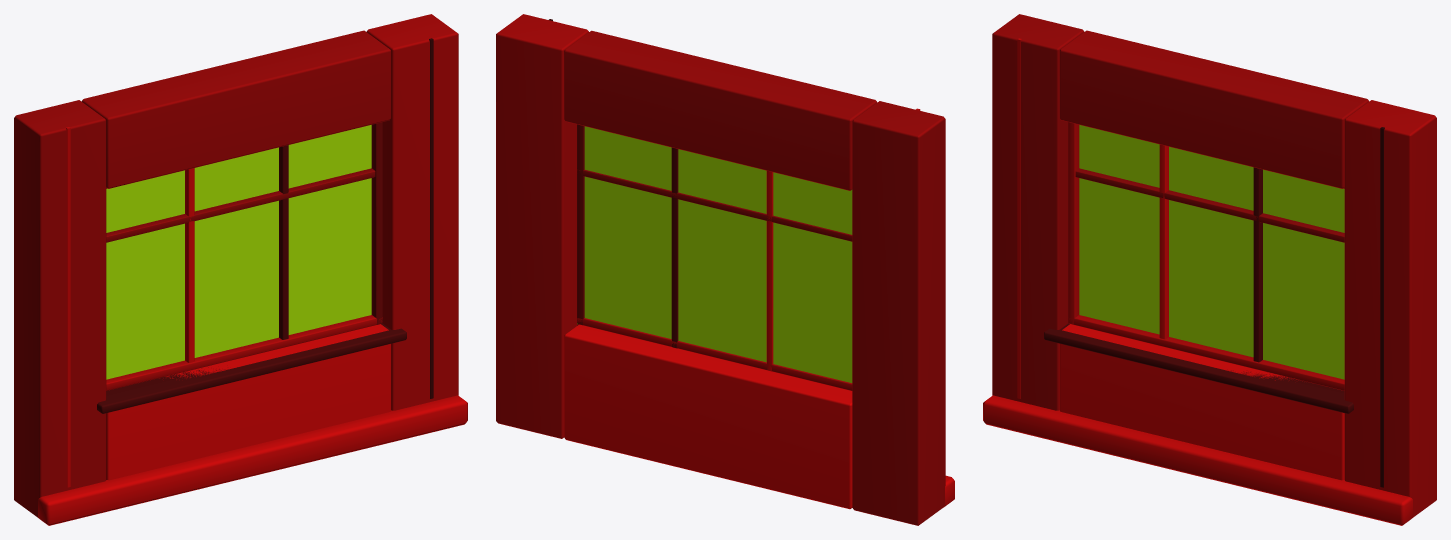
File: fac_concrete_a.glb
3 renders of one model, left to right at view 1: azimuth 30°, elevation 25°; view 2: azimuth 150°, elevation 25°; view 3: azimuth 330°, elevation 25°, orthographic.
Parts seen in each view (by area): view 1: fac_concrete_a; view 2: fac_concrete_a; view 3: fac_concrete_a.
Boxes of the visible parts, left/top/right/bottom form: fac_concrete_a: left=14, top=14, right=467, bottom=525; fac_concrete_a: left=496, top=14, right=954, bottom=525; fac_concrete_a: left=983, top=14, right=1436, bottom=525.
Size of the model in its own units: 4 by 3.5 by 0.59.
